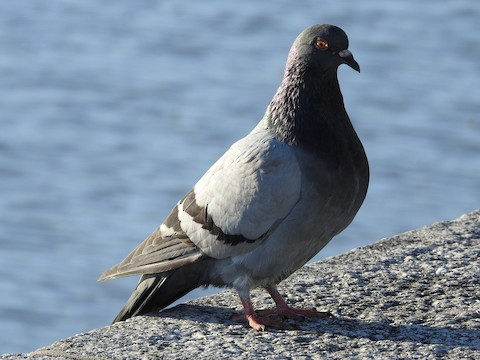pigeon: (92, 18, 375, 335)
